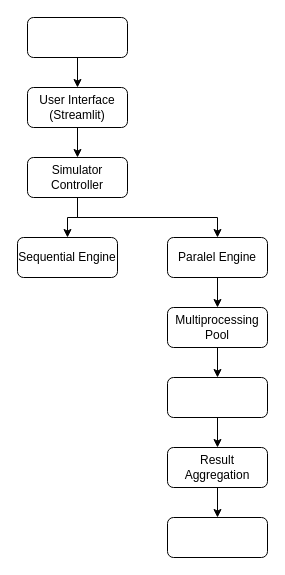
Image size: 285x575. Some labels were removed from this diagram. Here are the shapes that lost their labels. From the top down, the centre of each, then its label:
pixel 77 37: Pengguna (User)
pixel 217 397: Batle Simulation
pixel 217 537: Visualization & Analysis
